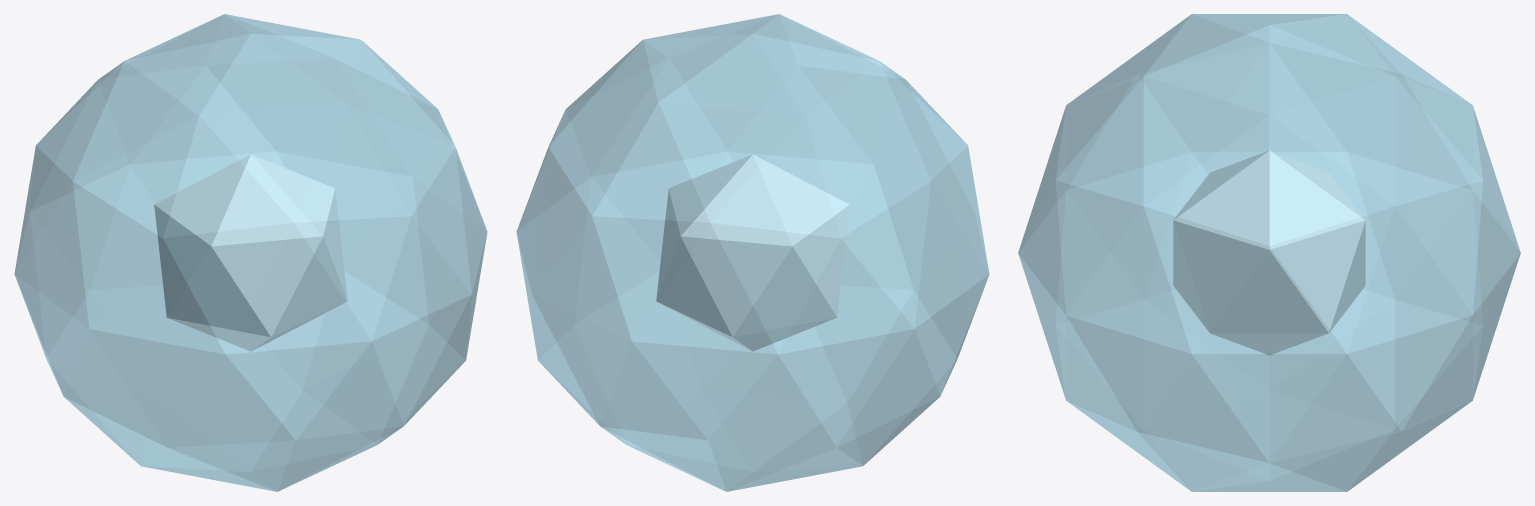
Rendered from player_cell.glb.
3 views of the same model, side by side, from view 1: azimuth 30°, elevation 25°; view 2: azimuth 150°, elevation 25°; view 3: azimuth 270°, elevation 25° (orthographic). The views are drawn at different scales.
Visible parts, largest first — view 1: PlayerCell_Membrane, PlayerCell_Nucleus; view 2: PlayerCell_Membrane, PlayerCell_Nucleus; view 3: PlayerCell_Membrane, PlayerCell_Nucleus.
Part boxes in pixels (x1,y1,x2,y2): PlayerCell_Membrane: (14, 14, 487, 491); PlayerCell_Nucleus: (154, 154, 347, 351); PlayerCell_Membrane: (516, 14, 989, 491); PlayerCell_Nucleus: (656, 154, 849, 351); PlayerCell_Membrane: (1018, 14, 1520, 491); PlayerCell_Nucleus: (1173, 150, 1365, 355).
Bounding box in the file's own units: 1.9 × 2 × 2.
